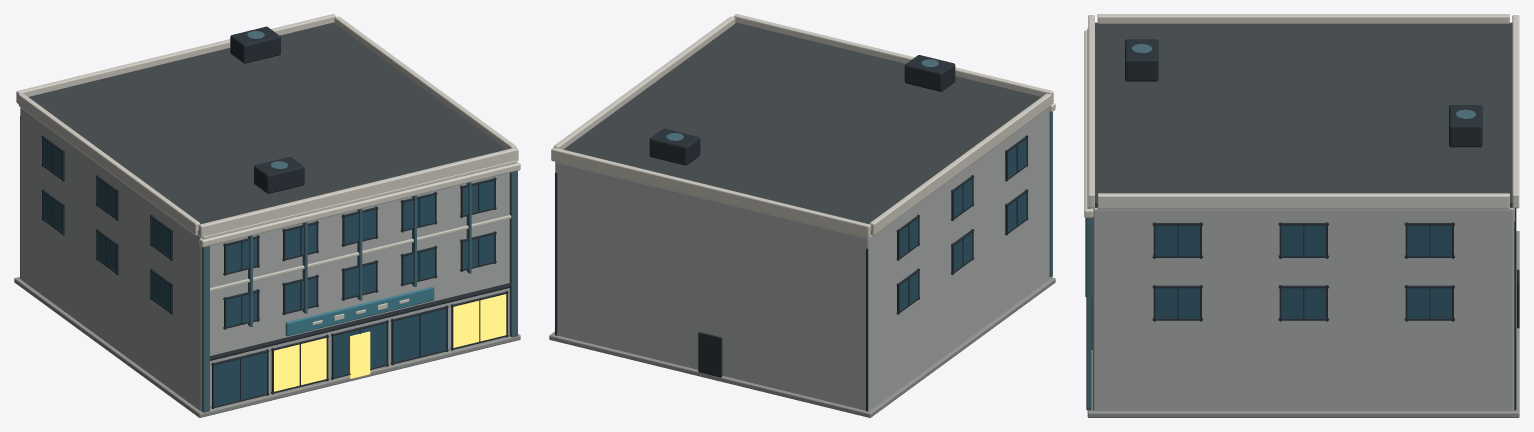
Rendered from rorng_city_storefront_corner_20x20.glb.
3 views of the same model, side by side, from view 1: azimuth 30°, elevation 25°; view 2: azimuth 150°, elevation 25°; view 3: azimuth 270°, elevation 25° (orthographic). The views are drawn at different scales.
Visible parts, largest first — view 1: rorng_city_storefront_corner_20x20_lod0; view 2: rorng_city_storefront_corner_20x20_lod0; view 3: rorng_city_storefront_corner_20x20_lod0.
Part boxes in pixels (<box>): rorng_city_storefront_corner_20x20_lod0: <box>14,14,520,417</box>; rorng_city_storefront_corner_20x20_lod0: <box>549,14,1055,417</box>; rorng_city_storefront_corner_20x20_lod0: <box>1084,14,1519,417</box>.
Size of what is drawn, in the model's own units: 20.01 by 12.58 by 20.16.
